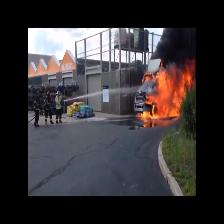fire: (140, 57, 194, 128)
smoke: (157, 29, 196, 62)
